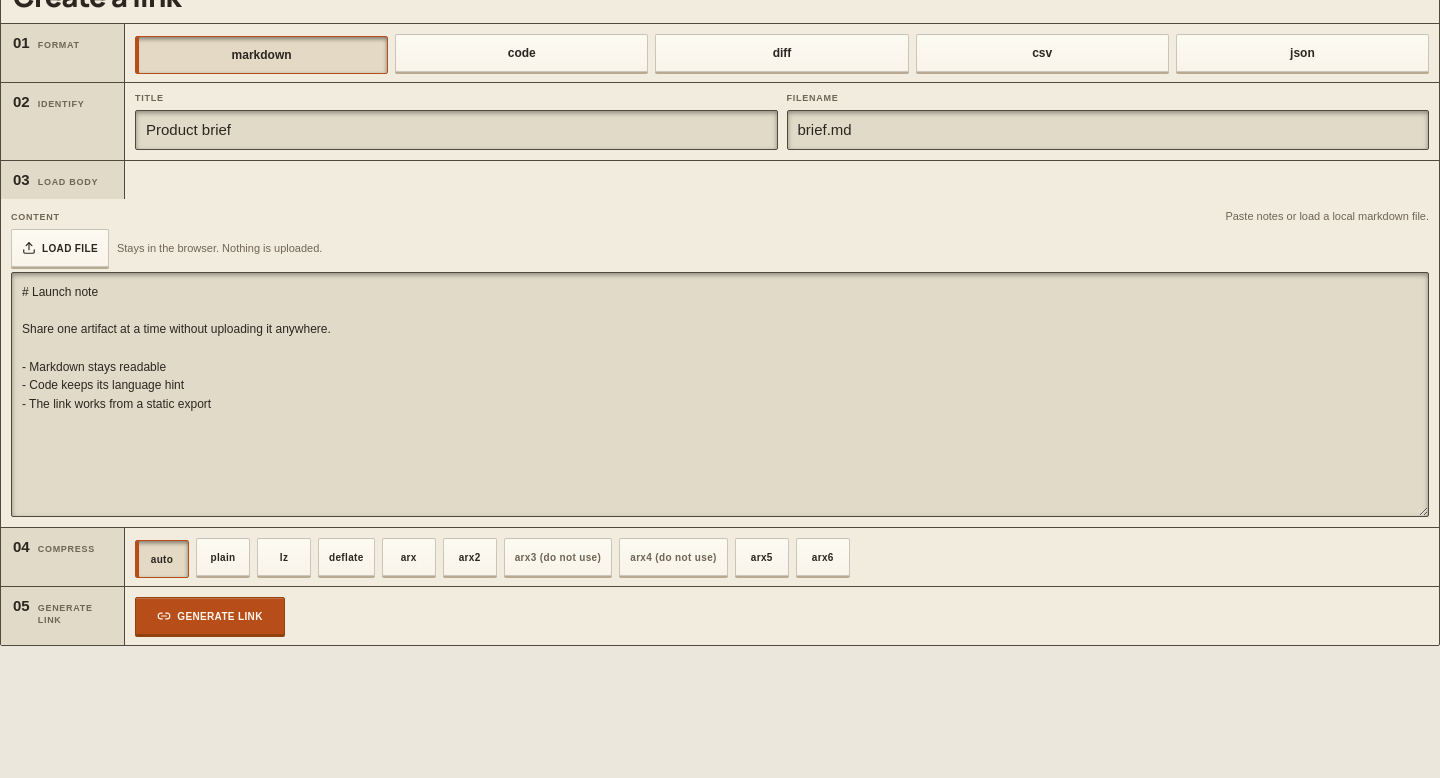
Test case: LinkCreator › marks a completed snapshot stale when its draft changed during generation
Click the button "Generate link".
click(210, 616)  # box top-left (135, 597), bottom-right (285, 635)
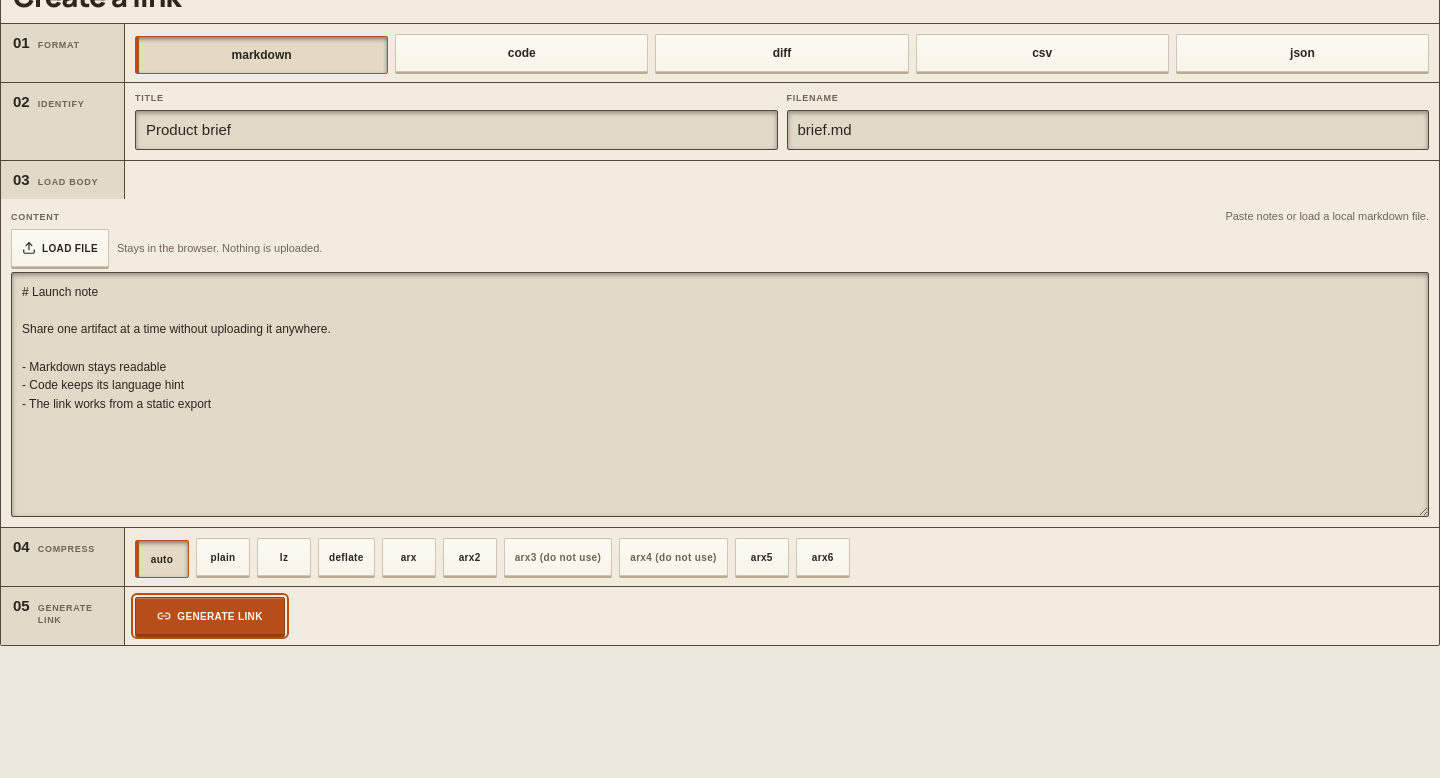
Type " updated while encoding" into the field labelled "Title".
click(456, 130); type(" updated while encoding")  # box top-left (135, 110), bottom-right (778, 150)
(page scrolled)
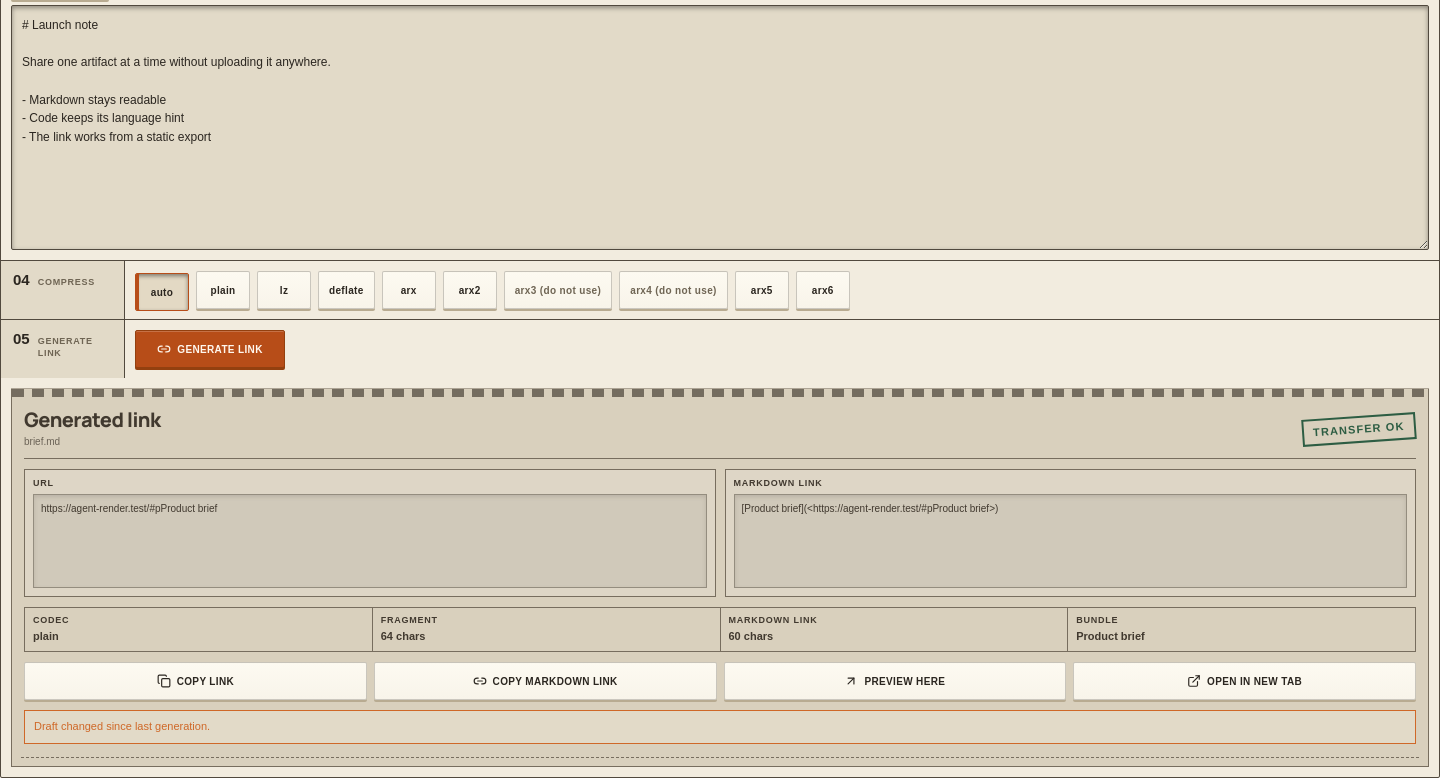
Now the text "Draft changed since last generation." is shown, box top-left (24, 710), bottom-right (1416, 744)
Now the button "Copy link" is enabled, box top-left (24, 662), bottom-right (367, 700)
